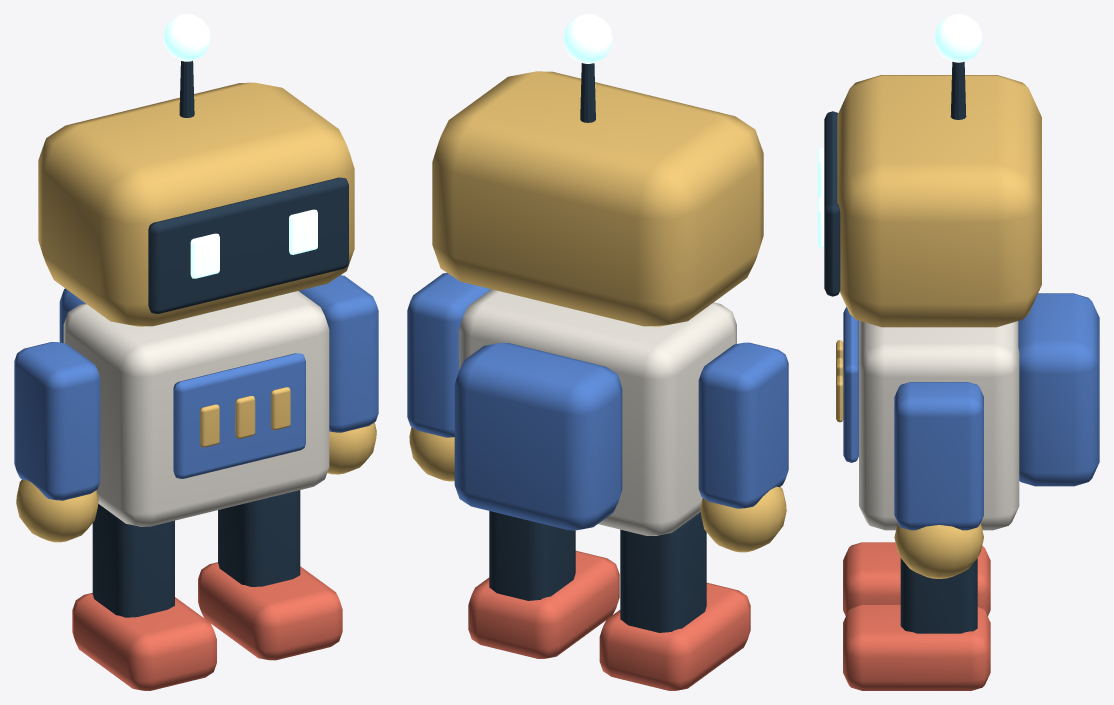
Rendered from pip.glb.
The picture shows the model from 3 angles, left to right: view 1: azimuth 30°, elevation 25°; view 2: azimuth 150°, elevation 25°; view 3: azimuth 270°, elevation 25°; orthographic projection. The views are drawn at different scales.
Visible parts, largest first — view 1: Pip_Helmet, Pip_Body, Pip_Visor, Pip_Arm_L_mesh, Pip_ChestPanel, Pip_Boot_R, Pip_Boot_L, Pip_Arm_R_mesh, Pip_Leg_L_mesh, Pip_Leg_R_mesh, Pip_Hand_L, Pip_Hand_R (+7 smaller); view 2: Pip_Helmet, Pip_Backpack, Pip_Body, Pip_Arm_L_mesh, Pip_Boot_L, Pip_Boot_R, Pip_Leg_L_mesh, Pip_Arm_R_mesh, Pip_Leg_R_mesh, Pip_Hand_L, Pip_Beacon, Pip_Hand_R (+1 smaller); view 3: Pip_Helmet, Pip_Body, Pip_Backpack, Pip_Arm_R_mesh, Pip_Boot_R, Pip_Leg_R_mesh, Pip_Boot_L, Pip_Hand_R, Pip_Visor, Pip_ChestPanel, Pip_Beacon, Pip_Antenna.
Boxes of the visible parts, x1,y1,x2,y2 form: Pip_Helmet: (38,82,354,326); Pip_Body: (63,291,329,526); Pip_Visor: (148,177,348,313); Pip_Arm_L_mesh: (14,342,100,500); Pip_ChestPanel: (173,353,305,478); Pip_Boot_R: (198,562,342,660); Pip_Boot_L: (72,593,216,690); Pip_Arm_R_mesh: (299,275,378,432); Pip_Leg_L_mesh: (92,504,174,617); Pip_Leg_R_mesh: (218,490,300,586); Pip_Hand_L: (16,479,98,542); Pip_Hand_R: (327,422,376,474); Pip_Helmet: (432,71,763,326); Pip_Backpack: (454,342,622,530); Pip_Body: (459,289,736,535); Pip_Arm_L_mesh: (698,342,788,508); Pip_Boot_L: (599,582,750,690); Pip_Boot_R: (468,550,619,658); Pip_Leg_L_mesh: (620,512,706,632); Pip_Arm_R_mesh: (407,273,490,437); Pip_Leg_R_mesh: (489,511,575,600); Pip_Hand_L: (700,486,786,552); Pip_Beacon: (563,14,612,63); Pip_Hand_R: (409,427,454,481); Pip_Helmet: (837,75,1041,327); Pip_Body: (859,320,1019,530); Pip_Backpack: (1018,293,1099,486); Pip_Arm_R_mesh: (894,382,983,530); Pip_Boot_R: (843,604,990,690); Pip_Leg_R_mesh: (900,558,977,633); Pip_Boot_L: (843,542,990,616); Pip_Hand_R: (894,523,983,578); Pip_Visor: (824,111,840,296); Pip_ChestPanel: (843,307,858,462); Pip_Beacon: (934,14,982,62); Pip_Antenna: (950,61,966,119).
Size of the model in its own units: 0.591 by 1 by 0.4063.
